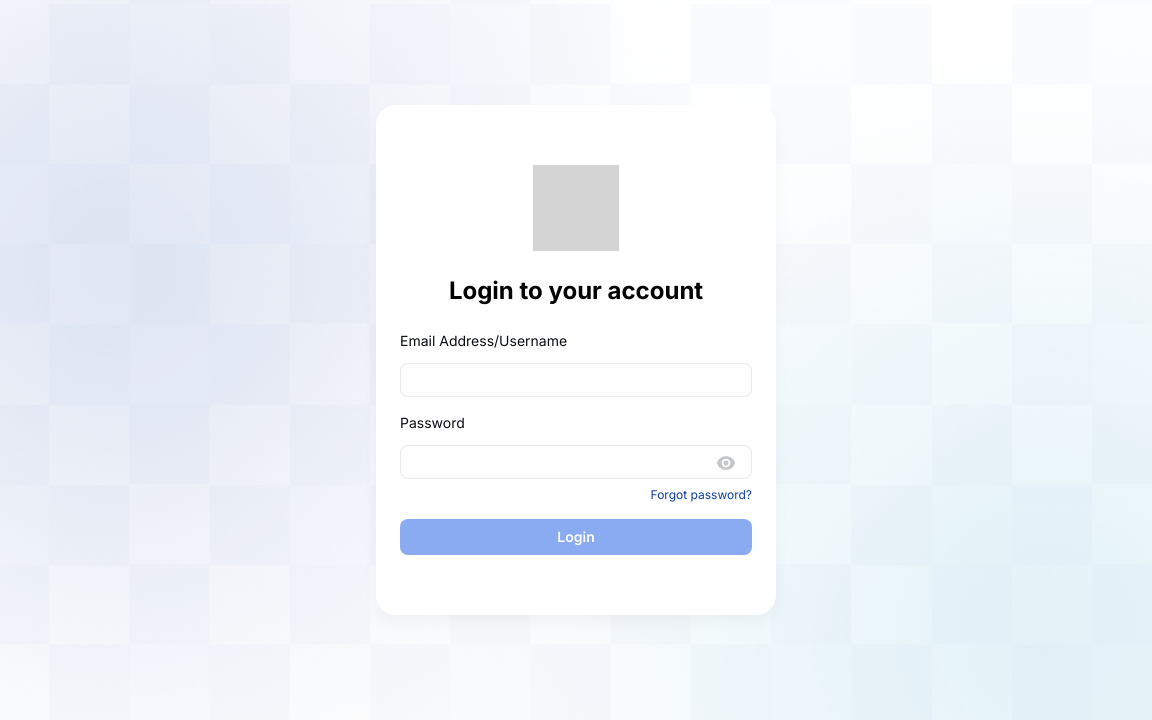
LoginView Component › validates password length
The image size is (1152, 720).
Type "short" into the password field labelled "Password" at (576,462), box [400,445,752,479]
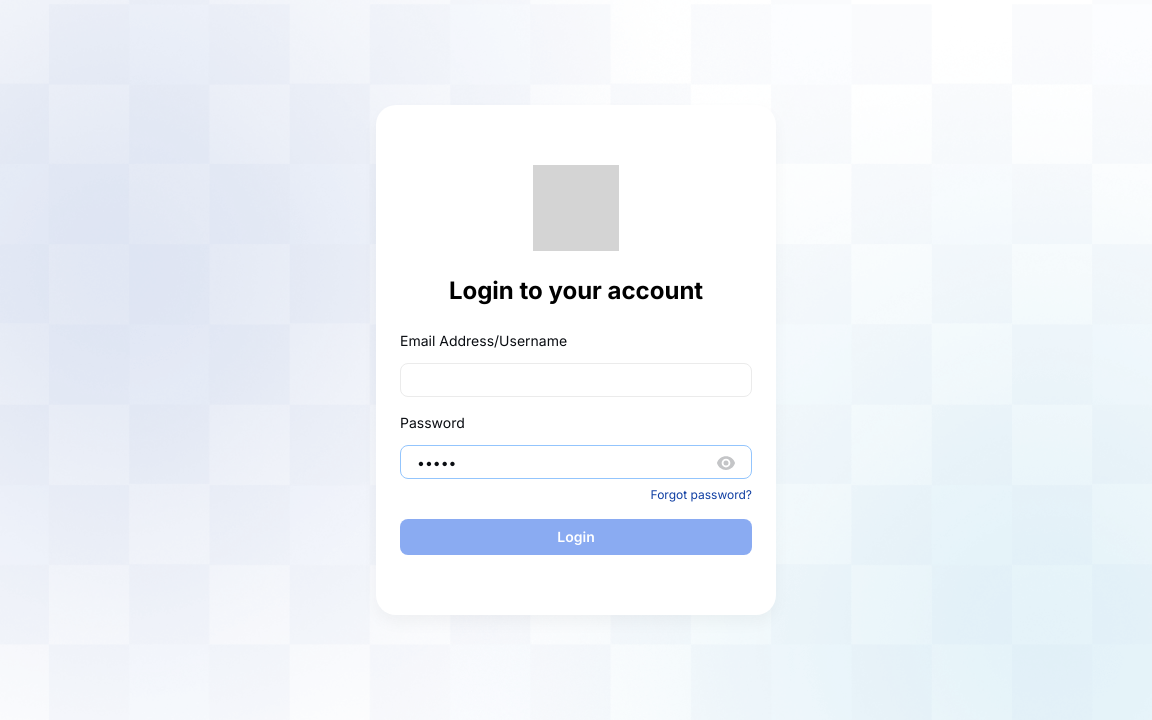
Leave the password field labelled "Password", box [400,445,752,479]
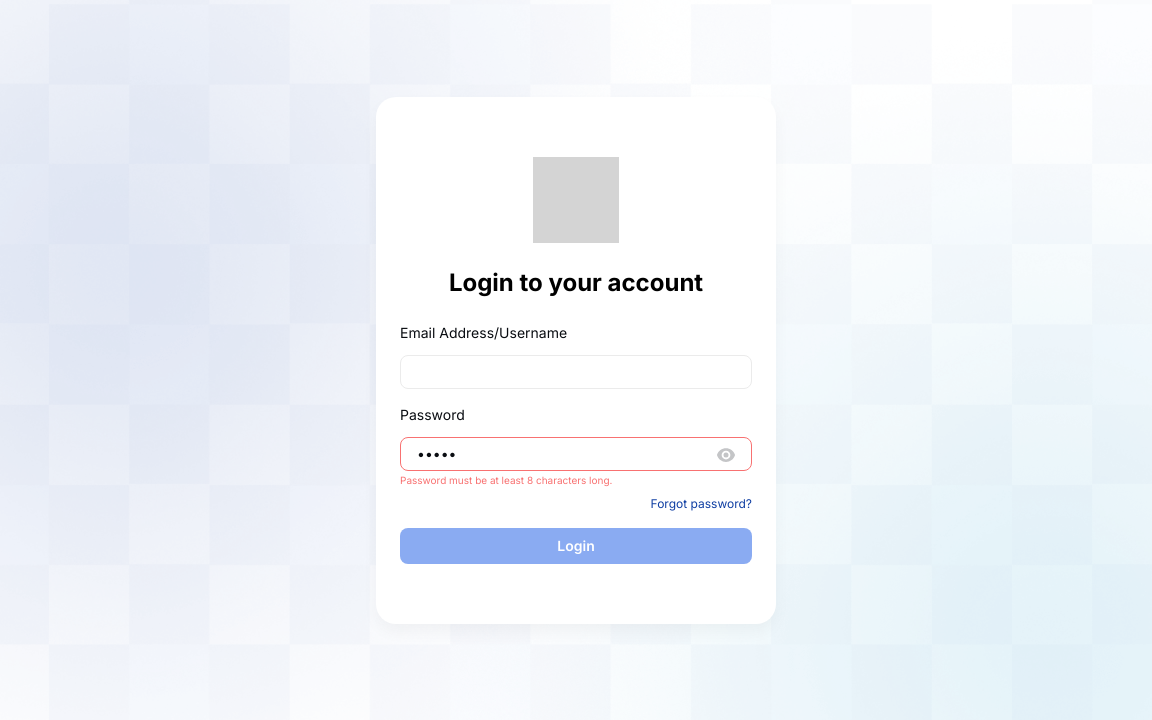
Result: the text "Password must be at least 8 characters long." is shown at [400,474,612,486]
